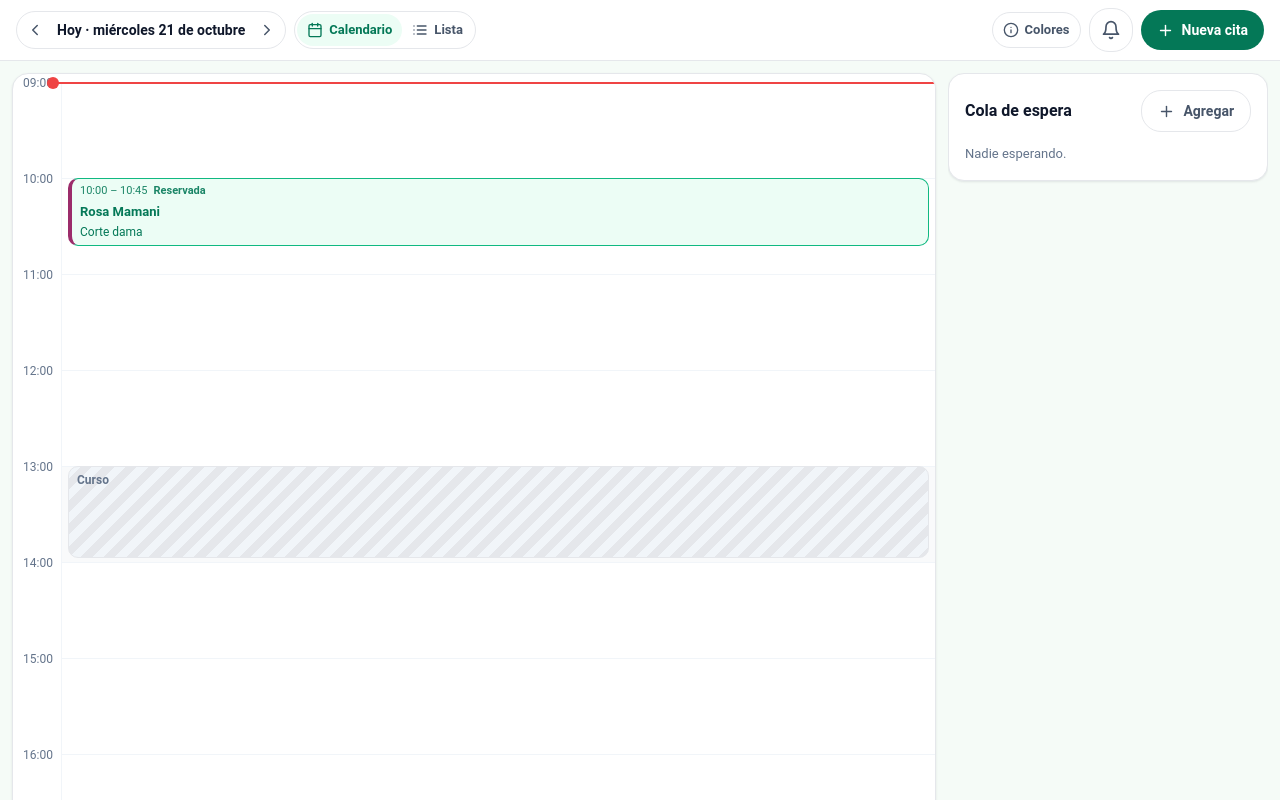
Test: vistas y barra (pedido del 12-oct) › calendario por defecto; Lista muestra las tarjetas y se recuerda
Click the button "Lista" at (438, 30), box [402, 14, 473, 46]
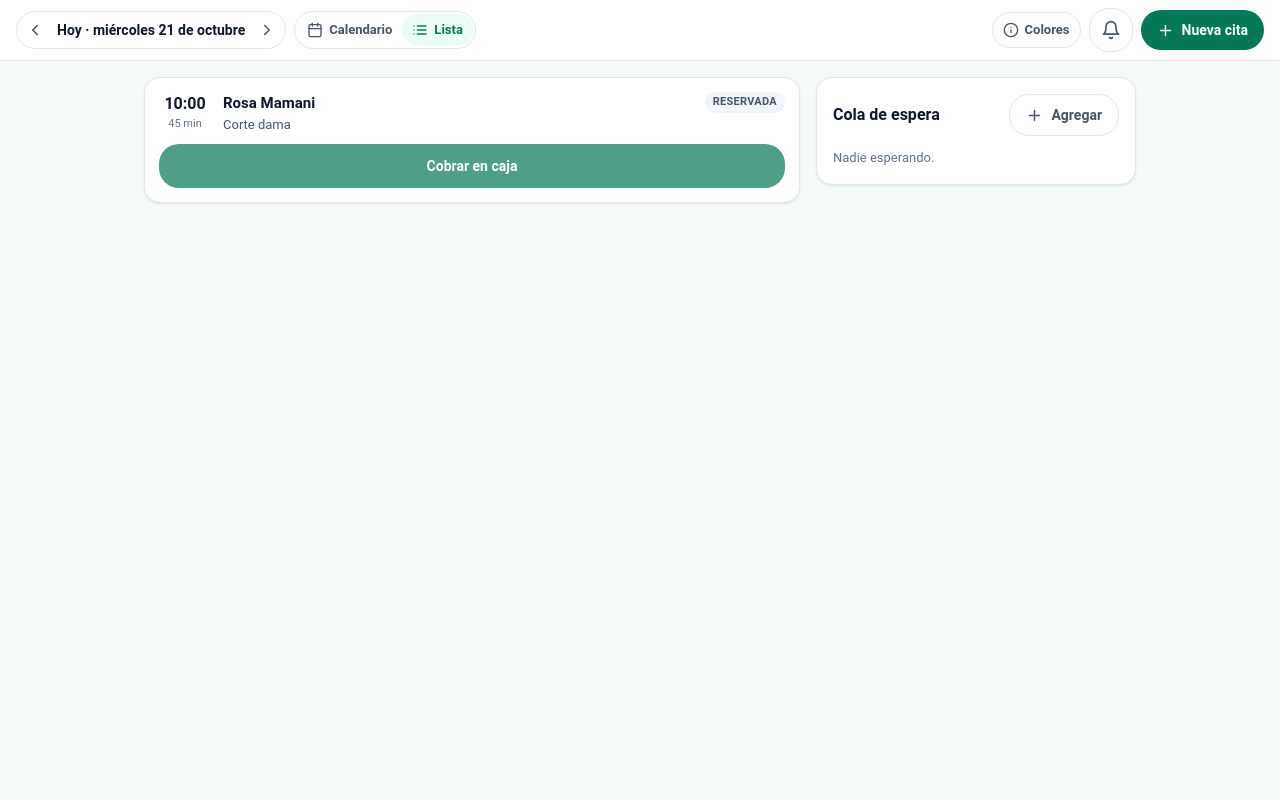
Check: the button with aria-label "Ver la cita de Rosa Mamani" is shown, box [159, 92, 785, 134]
